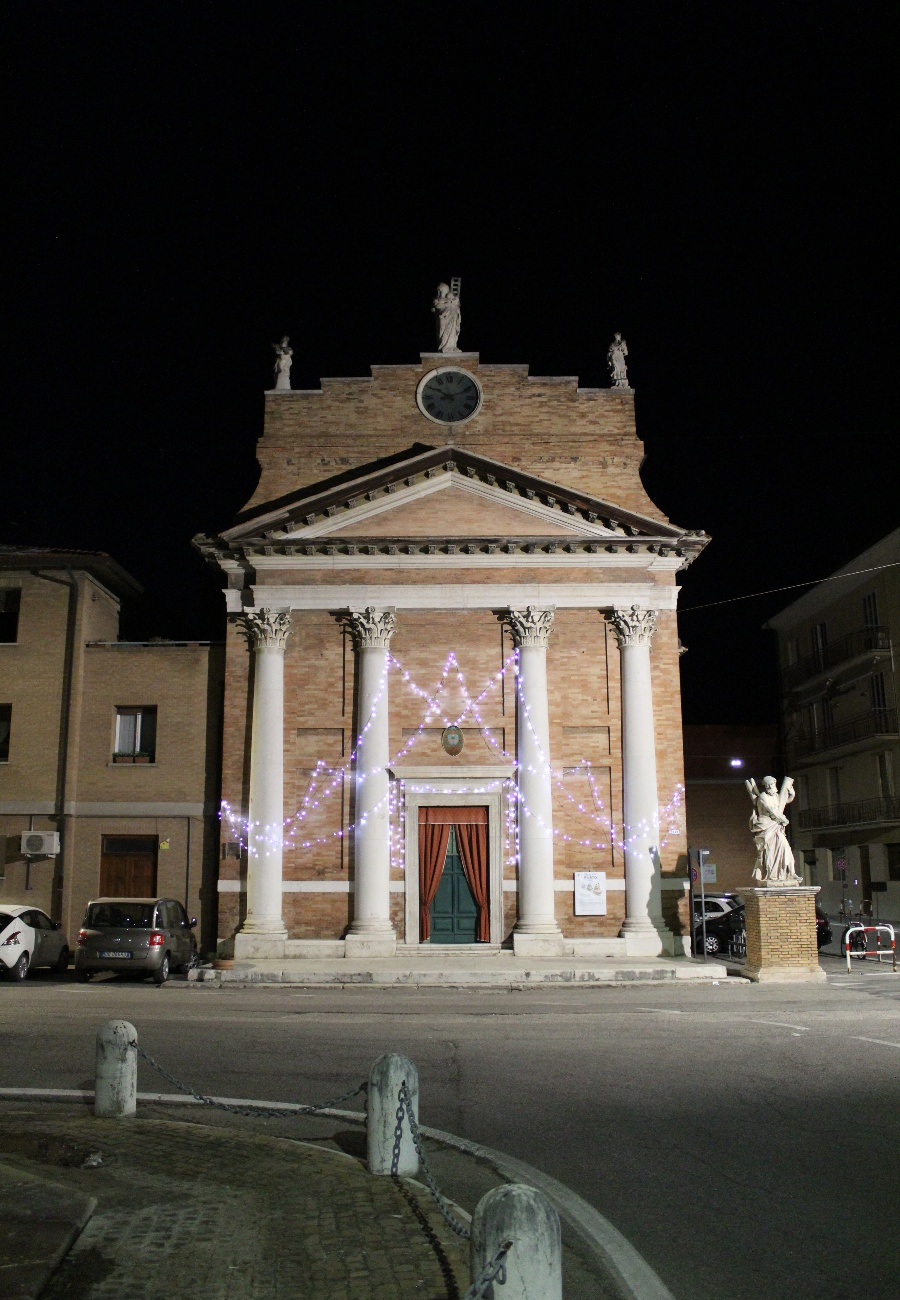Parrocchia Santa Maria: (192, 268, 712, 987)
